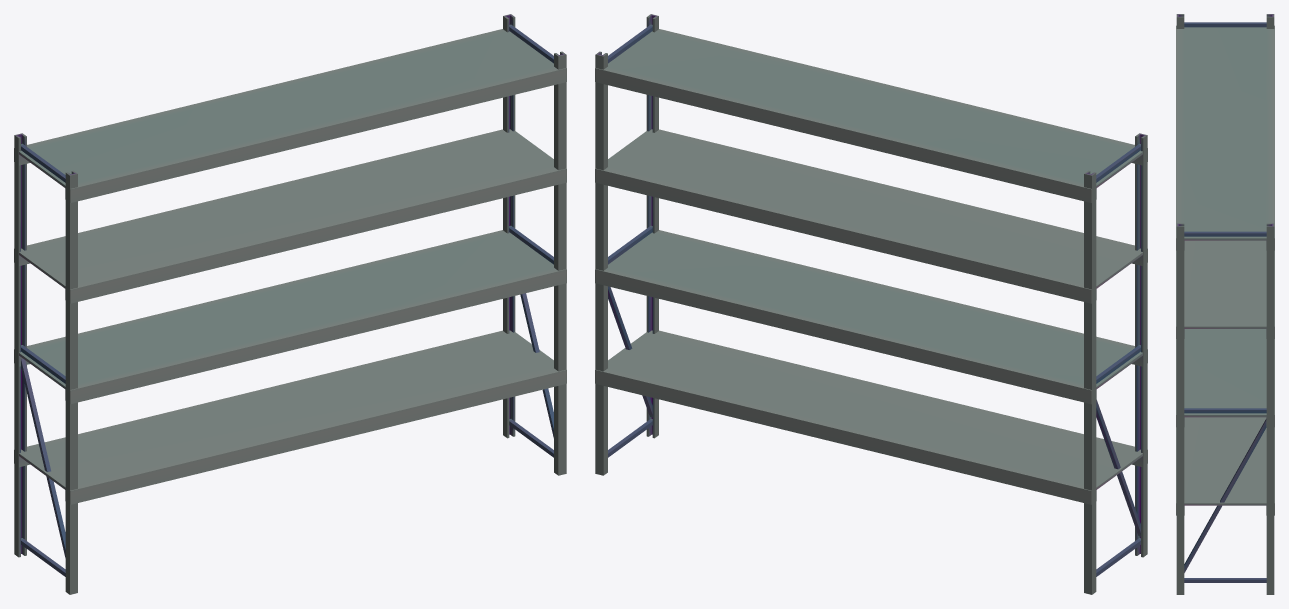
The model's file is simready-rack_l16.glb.
3 renders of one model, left to right at view 1: azimuth 30°, elevation 25°; view 2: azimuth 150°, elevation 25°; view 3: azimuth 270°, elevation 25°, orthographic. The views are drawn at different scales.
Visible parts, largest first — view 1: deck.002, deck.003, deck, deck.001, upright.001, upright; view 2: deck.002, deck.003, deck, deck.001, upright.001, upright; view 3: deck.003, upright, deck.002, deck.001, deck, upright.001.
Boxes of the visible parts, x1,y1,x2,y2 form: deck.002: (14,129,566,303); deck.003: (14,29,566,202); deck: (14,330,566,504); deck.001: (14,230,566,404); upright.001: (14,133,77,594); upright: (503,14,566,475); deck.002: (595,129,1147,303); deck.003: (595,29,1147,202); deck: (595,330,1147,504); deck.001: (595,230,1147,404); upright.001: (1084,133,1147,594); upright: (595,14,658,475); deck.003: (1176,25,1274,250); upright: (1176,223,1274,594); deck.002: (1176,240,1274,338); deck.001: (1176,329,1274,427); deck: (1176,417,1274,515); upright.001: (1176,14,1274,28).
Size of the model in its own units: 3.1 by 2.5 by 0.6089.
